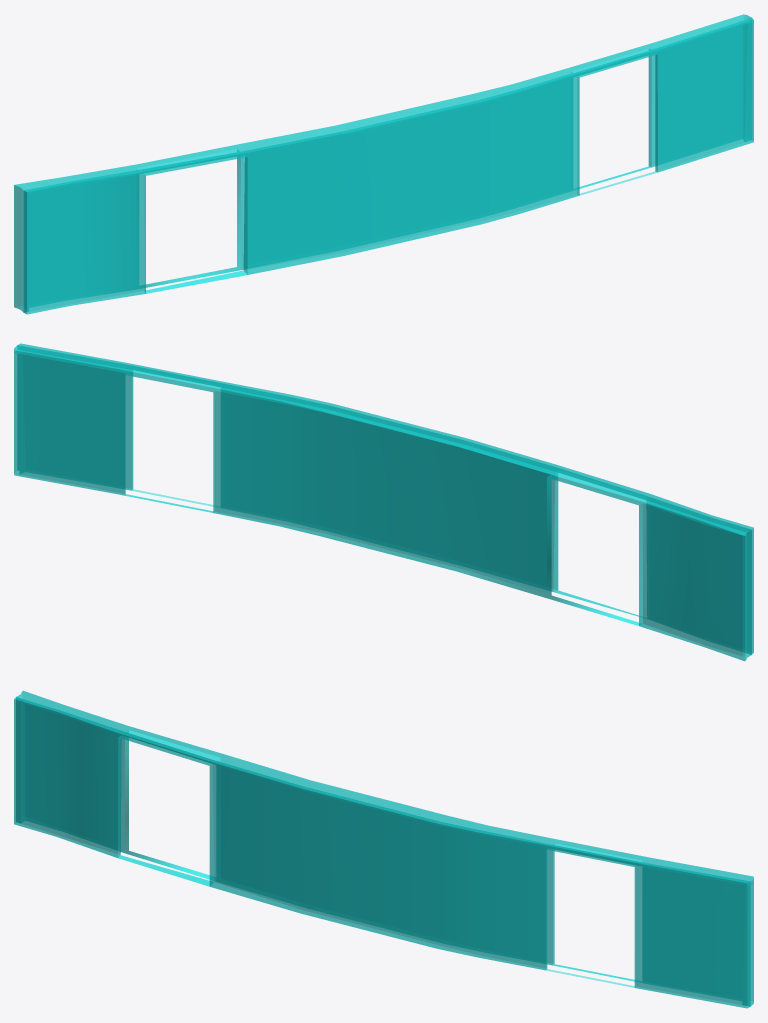
File: unit1wall.fbx
3 renders of one model, top to bottom at view 1: azimuth 30°, elevation 25°; view 2: azimuth 150°, elevation 25°; view 3: azimuth 330°, elevation 25°, orthographic. The views are drawn at different scales.
Visible parts, largest first — view 1: polySurface2; view 2: polySurface2; view 3: polySurface2.
Boxes of the visible parts, x1,y1,x2,y2 form: polySurface2: (14, 14, 753, 314); polySurface2: (14, 343, 753, 661); polySurface2: (14, 690, 753, 1008).
Size of the model in its own units: 11.52 by 1.86 by 0.8814.
